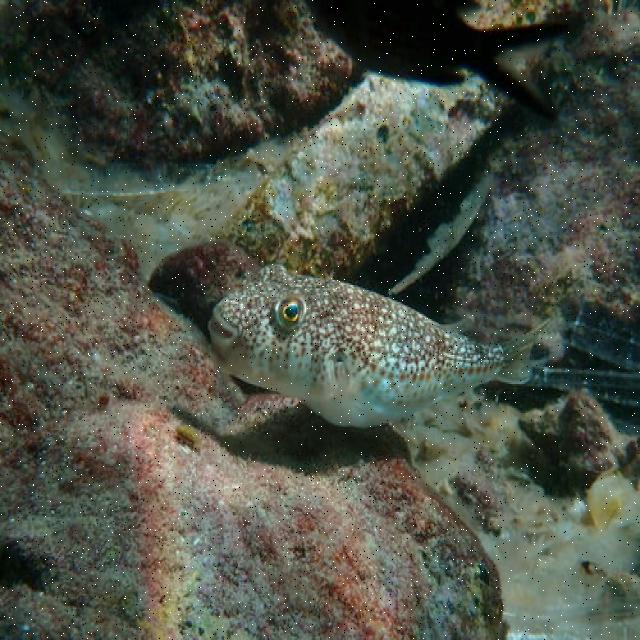Balik: (209, 265, 540, 426)
